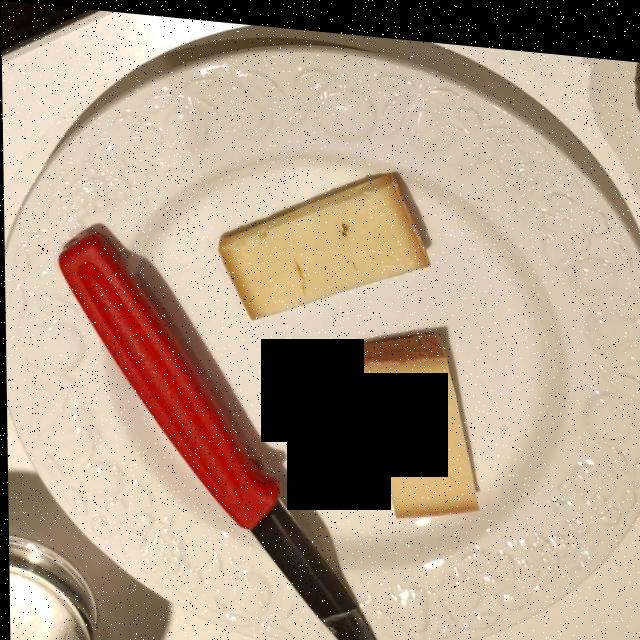hard-cheese: (215, 159, 502, 513)
